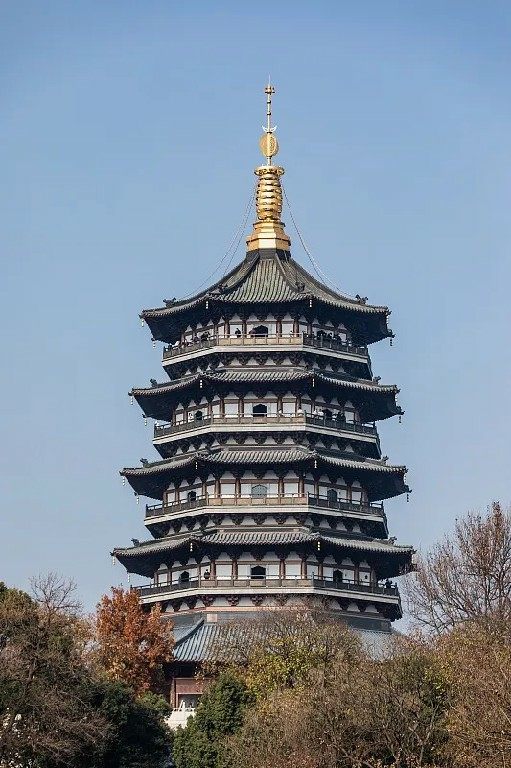Leifeng: (100, 74, 440, 705)
